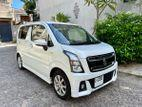car: (17, 22, 119, 99)
